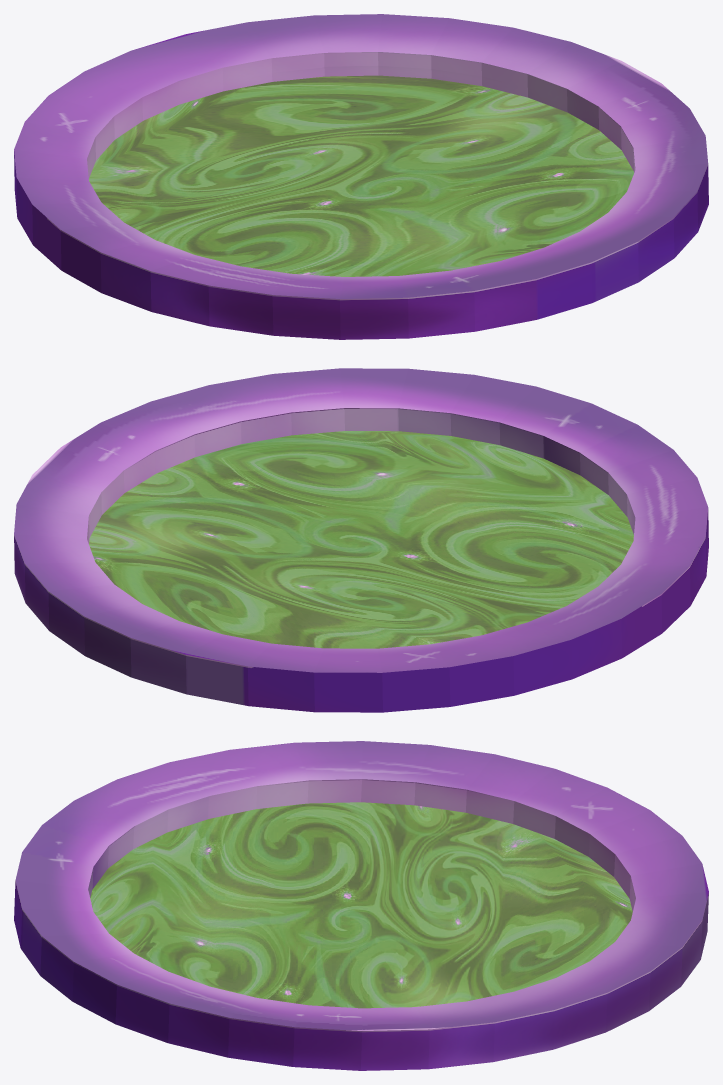
File: kanach portal.fbx
3 renders of one model, top to bottom at view 1: azimuth 30°, elevation 25°; view 2: azimuth 150°, elevation 25°; view 3: azimuth 270°, elevation 25°, orthographic.
Visible parts, largest first — view 1: Cylinder.002, Plane.002; view 2: Cylinder.002, Plane.002; view 3: Cylinder.002, Plane.002.
Part boxes in pixels (box(x1,y1,x2,y2)): Cylinder.002: box(14, 14, 708, 339); Plane.002: box(88, 75, 633, 276); Cylinder.002: box(14, 368, 708, 712); Plane.002: box(89, 431, 633, 648); Cylinder.002: box(14, 741, 708, 1070); Plane.002: box(90, 802, 632, 1008).
Size of the model in its own units: 4246 by 351 by 4299.
Materials: 2 (2 with a texture image).
